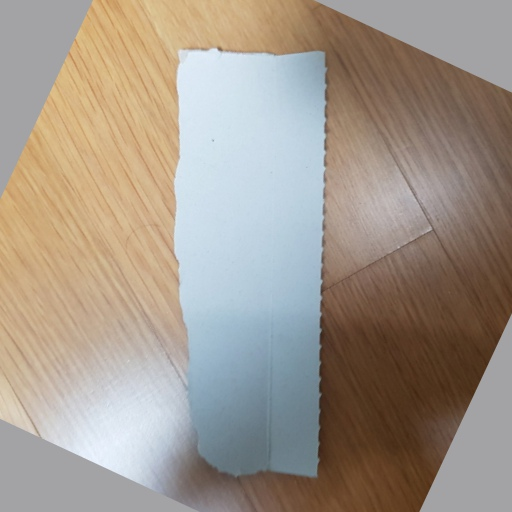Paper_2: (165, 35, 340, 484)
